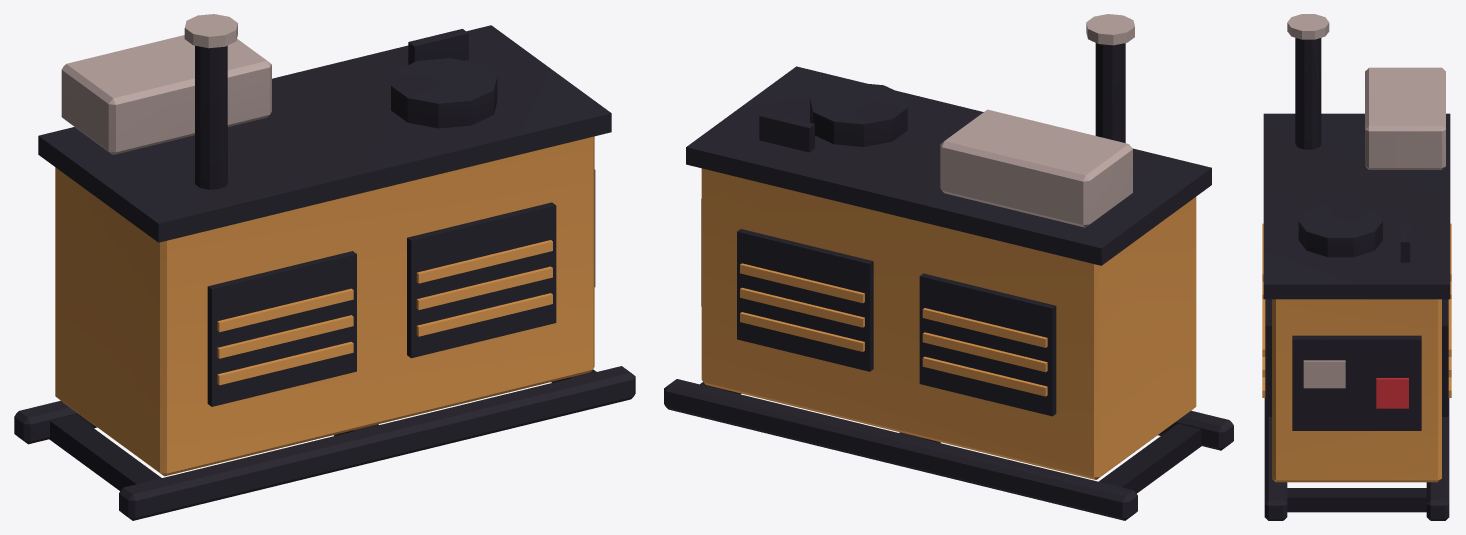
File: prop.cure-generator.glb
3 renders of one model, left to right at view 1: azimuth 30°, elevation 25°; view 2: azimuth 150°, elevation 25°; view 3: azimuth 270°, elevation 25°, orthographic. The views are drawn at different scales.
Parts seen in each view (by area): view 1: body; view 2: body; view 3: body.
Boxes of the visible parts, bbox=[...] form: body: bbox=[14, 14, 635, 520]; body: bbox=[664, 14, 1233, 520]; body: bbox=[1262, 14, 1451, 520].
Bounding box in the file's own units: 2.8 × 2.38 × 1.17.
